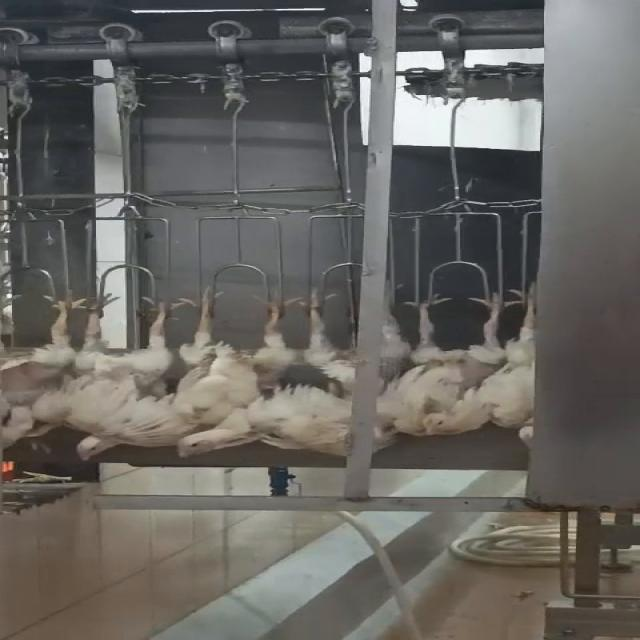chicken: (173, 286, 343, 459), (373, 286, 515, 446), (73, 296, 195, 467), (0, 291, 91, 453), (503, 285, 549, 444), (299, 292, 365, 400)
